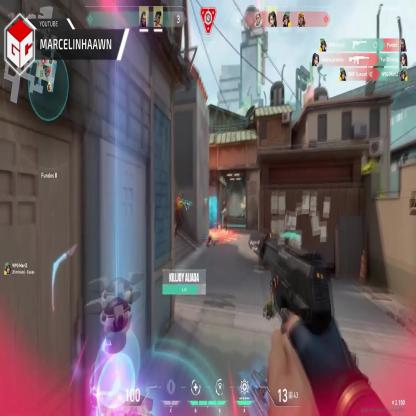enemy: (173, 191, 182, 236)
enemy_head: (178, 192, 183, 198)
